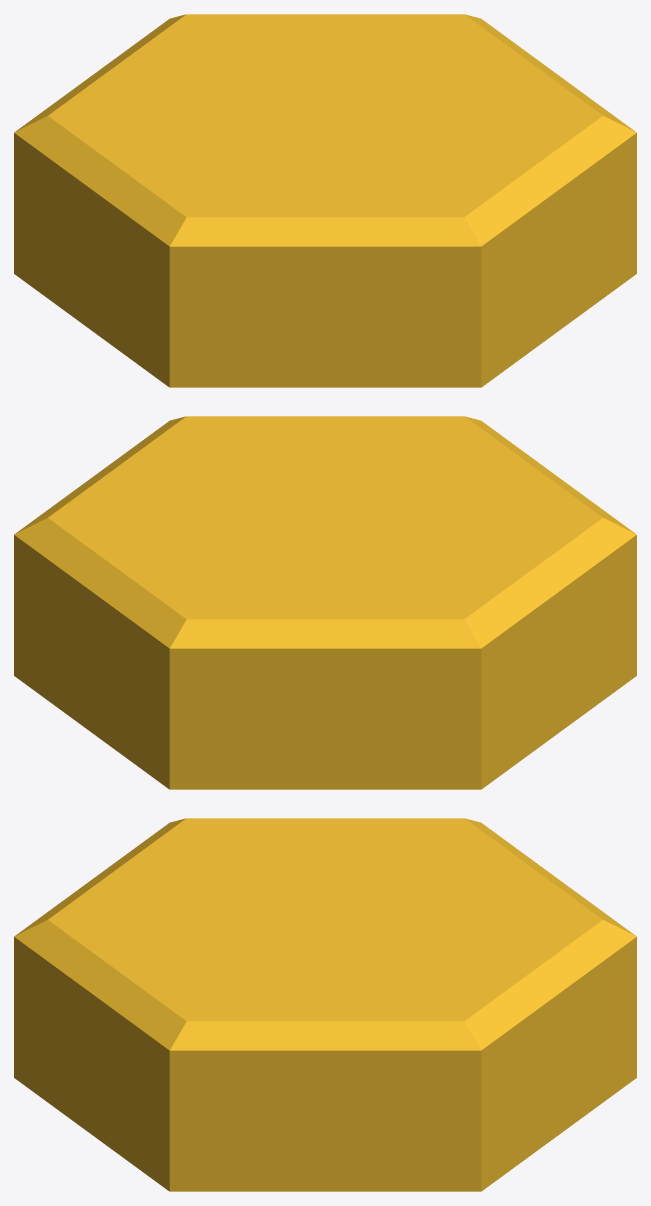
Rendered from tile_beveled.fbx.
3 views of the same model, one above another, from view 1: azimuth 30°, elevation 25°; view 2: azimuth 150°, elevation 25°; view 3: azimuth 270°, elevation 25° (orthographic).
Parts seen in each view (by area): view 1: Cylinder; view 2: Cylinder; view 3: Cylinder.
Boxes of the visible parts, x1,y1,x2,y2 form: Cylinder: [14, 14, 636, 387]; Cylinder: [14, 416, 636, 789]; Cylinder: [14, 818, 636, 1191].
Size of the model in its own units: 6.06 by 1.96 by 7.
